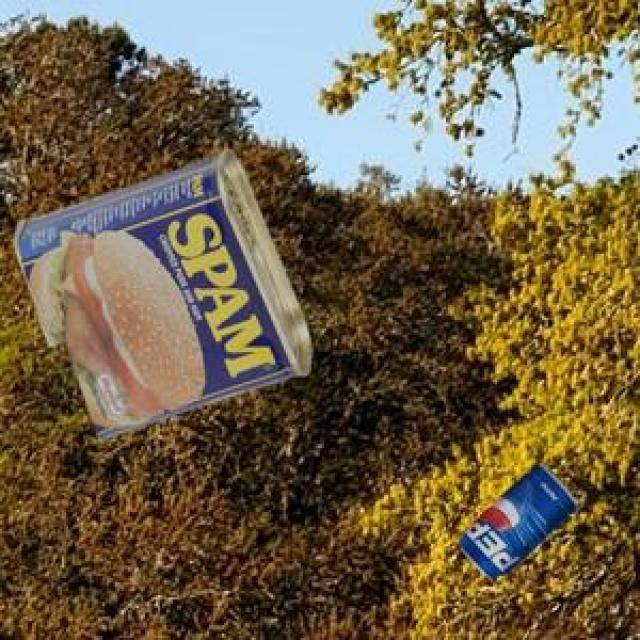Can: (14, 146, 308, 436), (458, 462, 573, 575)
